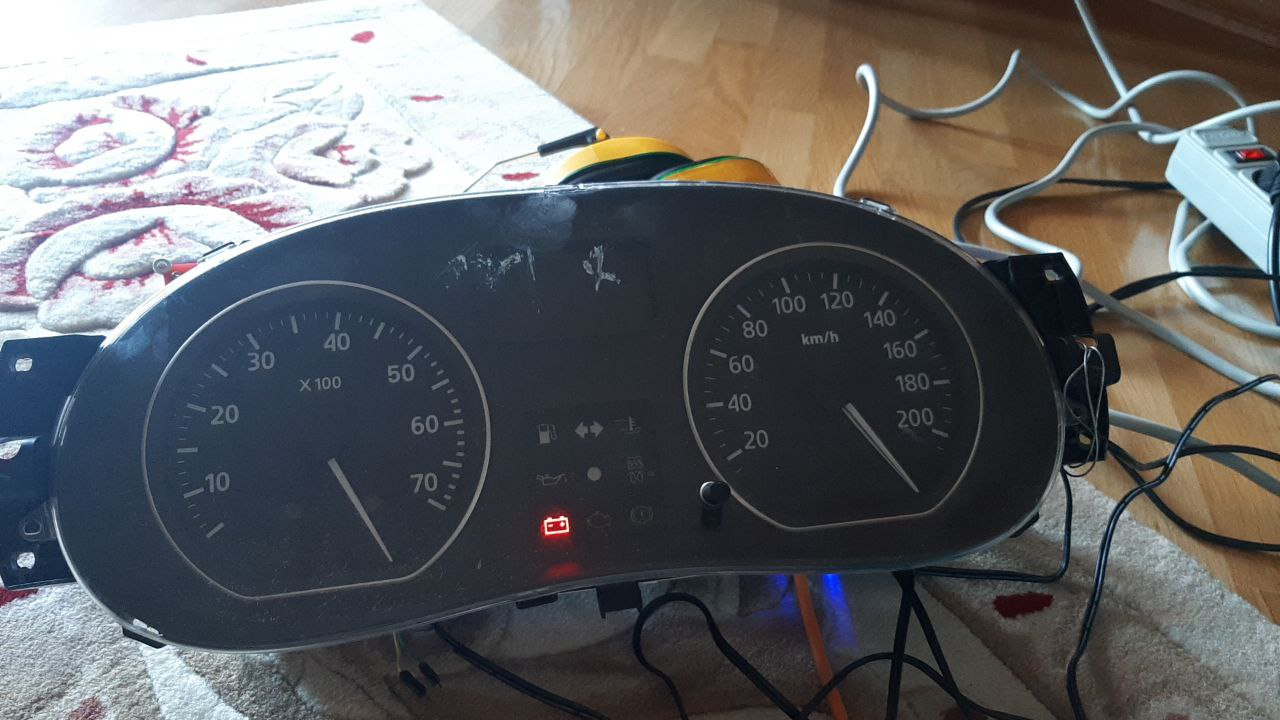accumulator: (533, 516, 574, 538)
